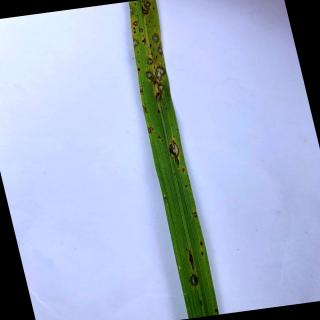Blast: (169, 139, 180, 164), (154, 63, 166, 82), (188, 250, 196, 272), (188, 272, 200, 286), (141, 0, 152, 10), (152, 32, 160, 44), (141, 5, 149, 16), (146, 71, 154, 82), (157, 83, 165, 94), (154, 92, 162, 102), (156, 45, 163, 56), (133, 38, 140, 48), (146, 58, 154, 65), (132, 20, 138, 28), (192, 210, 198, 218), (197, 300, 204, 306), (148, 126, 153, 134), (130, 6, 134, 15), (180, 167, 186, 173), (199, 240, 204, 247), (142, 38, 146, 46), (139, 28, 144, 34), (139, 88, 144, 94), (214, 308, 219, 314), (142, 105, 146, 112), (200, 250, 204, 257), (133, 30, 137, 35), (164, 194, 167, 200), (137, 67, 141, 71)
